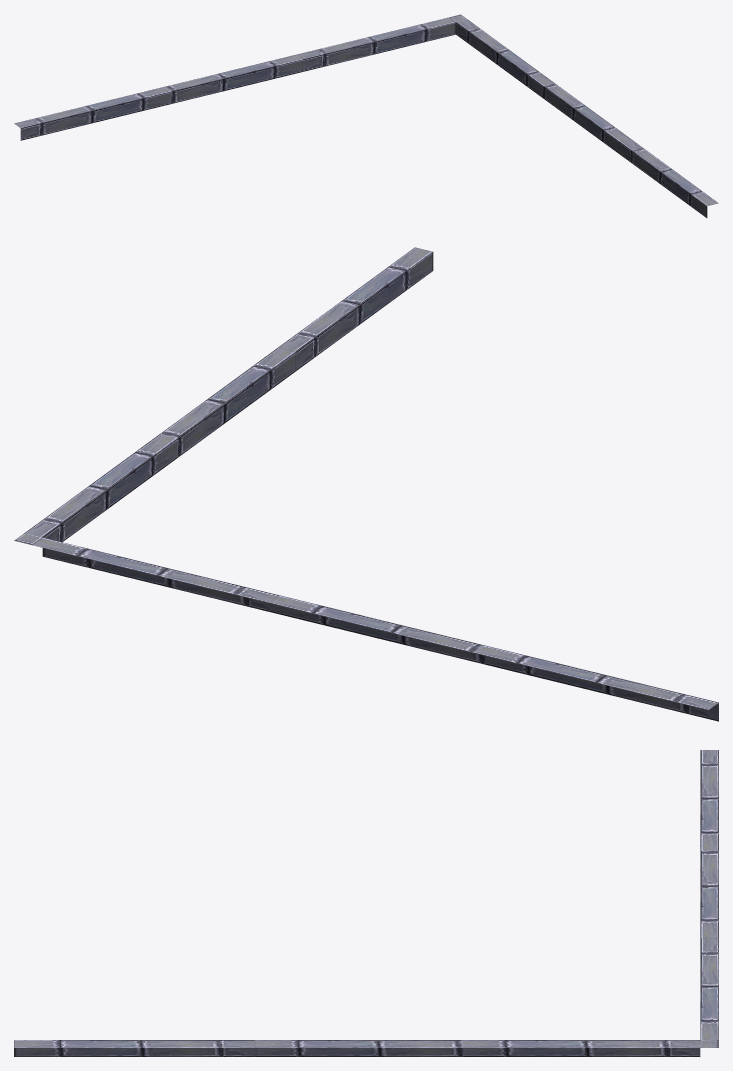
File: Dungeon_plith_cornerL.FBX
The picture shows the model from 3 angles, top to bottom: view 1: azimuth 30°, elevation 25°; view 2: azimuth 150°, elevation 25°; view 3: azimuth 270°, elevation 25°; orthographic projection. The views are drawn at different scales.
Visible parts, largest first — view 1: wall_cornerL; view 2: wall_cornerL; view 3: wall_cornerL.
Boxes of the visible parts, x1=… form: wall_cornerL: x1=14, y1=14, x2=718, y2=217; wall_cornerL: x1=14, y1=247, x2=718, y2=721; wall_cornerL: x1=14, y1=750, x2=718, y2=1056.
Size of the model in its own units: 950 by 25 by 950.
Materials: 1 (1 with a texture image).
